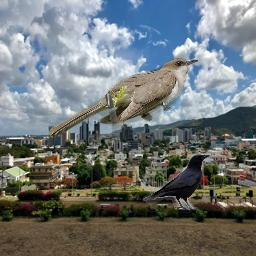Crow: (143, 154, 210, 210)
Cuckoo: (47, 57, 198, 138)
